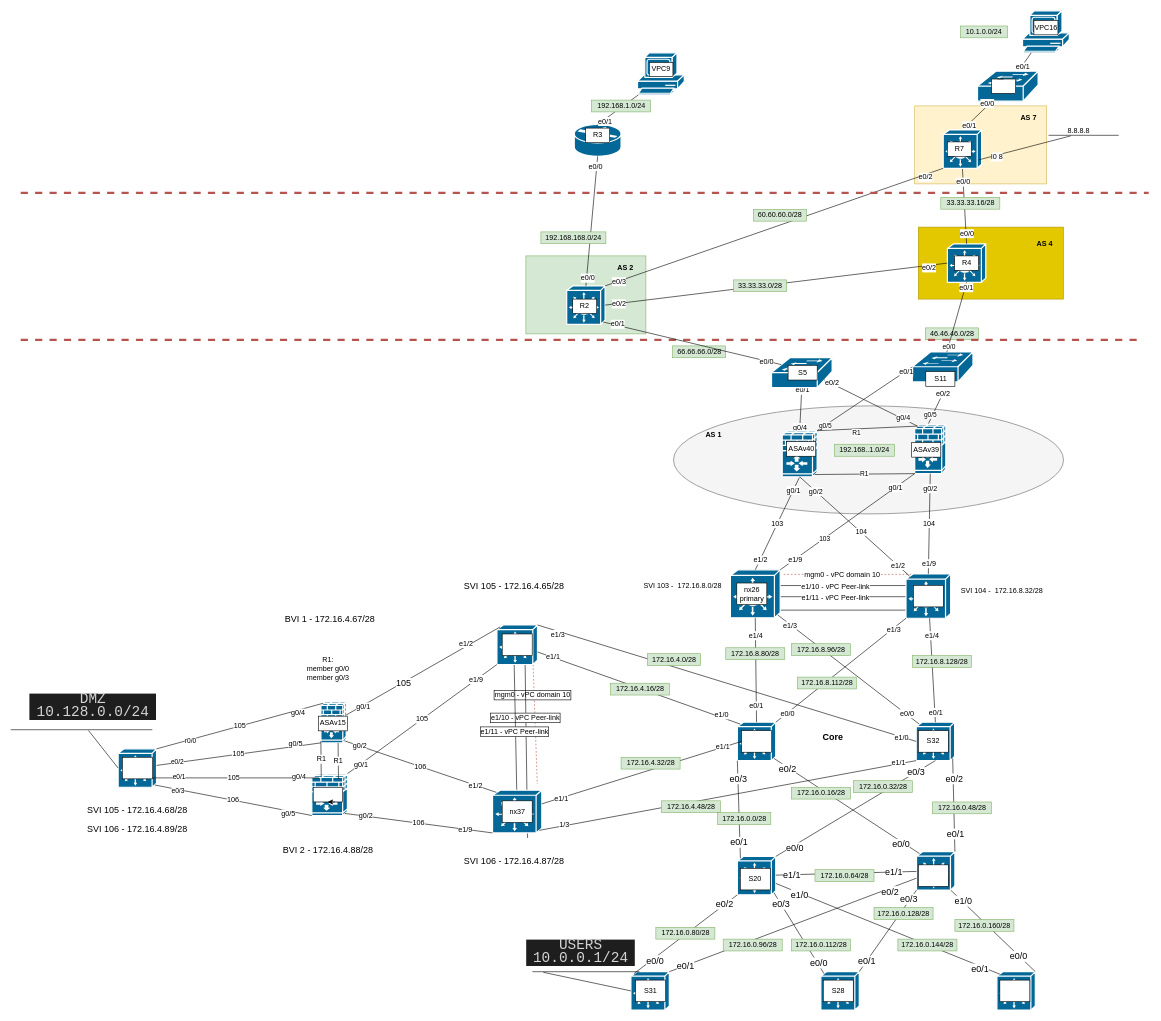
This 1161x1021 diagram has some shape labels left out. Each missing label, with the box of its shape:
ASAv10: (313, 787, 342, 802)
nx25: (913, 585, 943, 607)
nx36 primary: (502, 633, 532, 656)
R14: (991, 78, 1016, 93)
S29: (999, 980, 1030, 1002)
S30: (122, 757, 152, 779)
S6: (741, 730, 772, 752)
S8: (918, 864, 948, 886)
